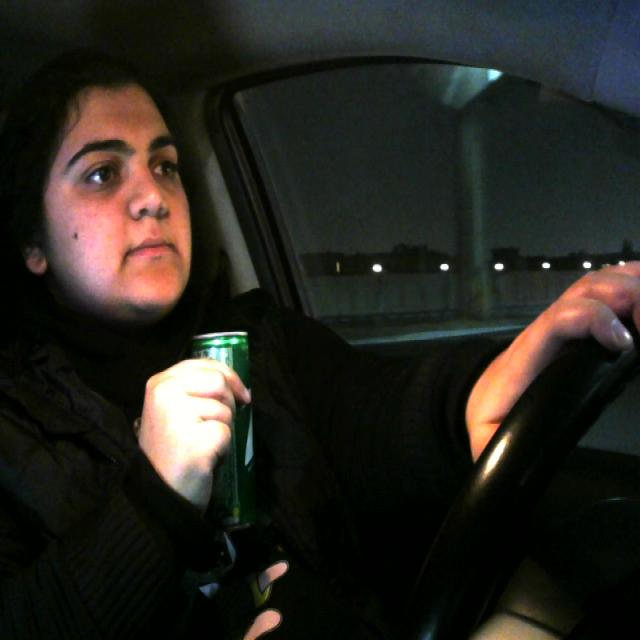drinking: (186, 326, 267, 550)
